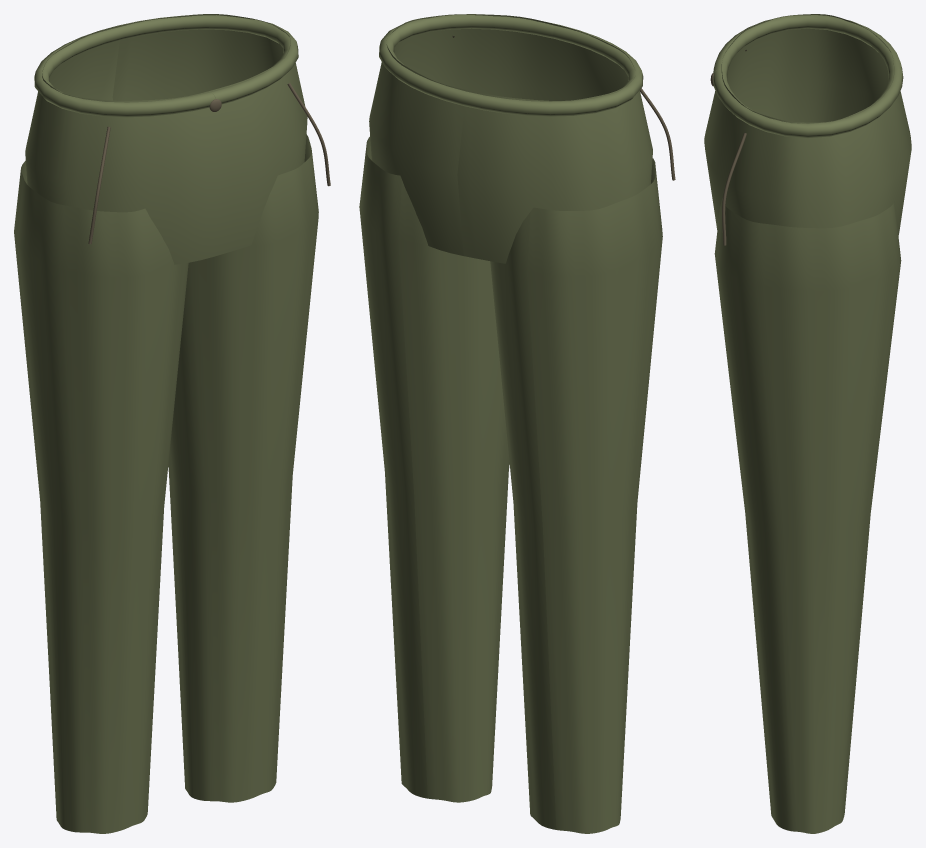
The model's file is pantalon-rivage-homme.glb.
The picture shows the model from 3 angles, left to right: view 1: azimuth 30°, elevation 25°; view 2: azimuth 150°, elevation 25°; view 3: azimuth 270°, elevation 25°; orthographic projection. The views are drawn at different scales.
Parts seen in each view (by area): view 1: edit-15; view 2: edit-15; view 3: edit-15.
Part boxes in pixels (box(x1,y1,x2,y2)): edit-15: box(14, 14, 330, 833); edit-15: box(359, 14, 675, 833); edit-15: box(704, 14, 911, 833).
Size of the model in its own units: 0.3684 by 0.9517 by 0.2493.
